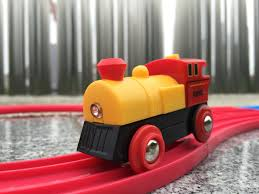brio: (79, 53, 215, 175)
